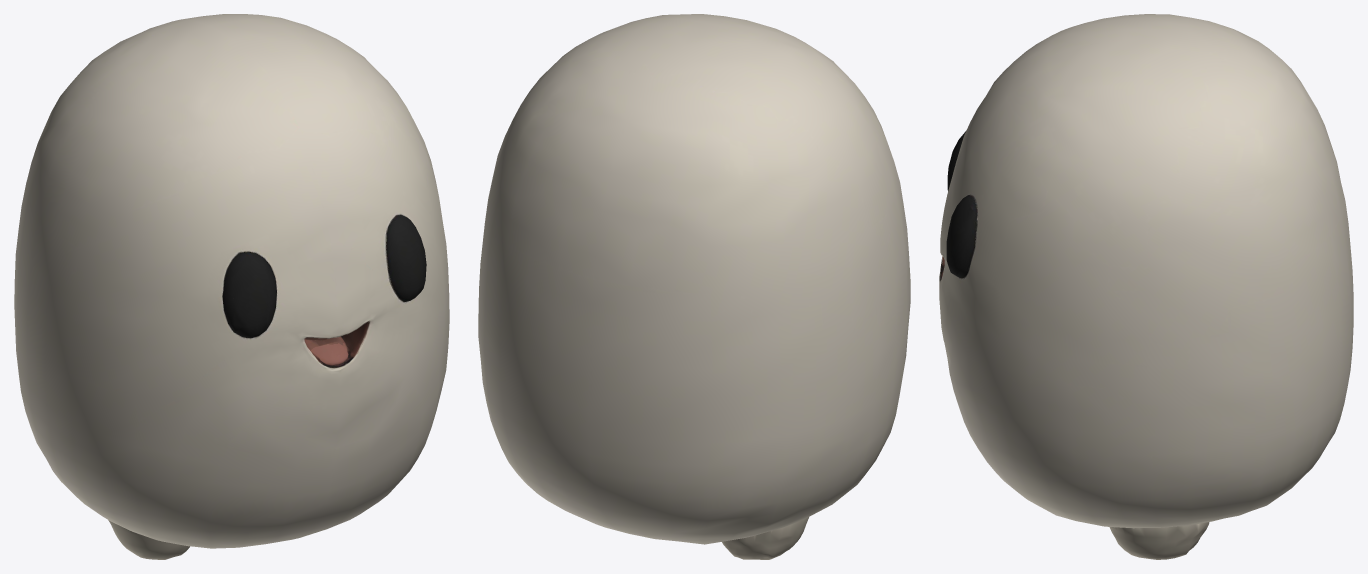
Rendered from asset_pack_item_glb-vd7d0dcraj58ycbcm7n9arqjjx8bztjr-3-ks74qy9g25xgahfdejf6fcwdns8bz6c8.glb.
The picture shows the model from 3 angles, left to right: view 1: azimuth 30°, elevation 25°; view 2: azimuth 150°, elevation 25°; view 3: azimuth 270°, elevation 25°; orthographic projection. The views are drawn at different scales.
Parts seen in each view (by area): view 1: teen-good; view 2: teen-good; view 3: teen-good.
Boxes of the visible parts, x1,y1,x2,y2 form: teen-good: (14, 14, 449, 559); teen-good: (478, 14, 910, 559); teen-good: (939, 14, 1353, 559).
Bounding box in the file's own units: 0.7832 × 0.998 × 0.7832.
Materials: 1 (1 with a texture image).
